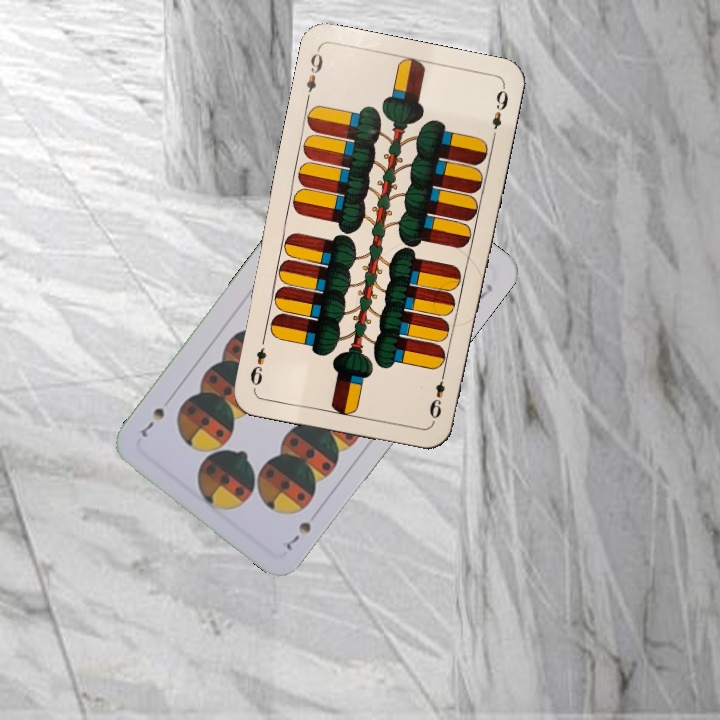E9: (302, 46, 326, 104), (425, 367, 448, 426)
S7: (279, 517, 314, 553)
